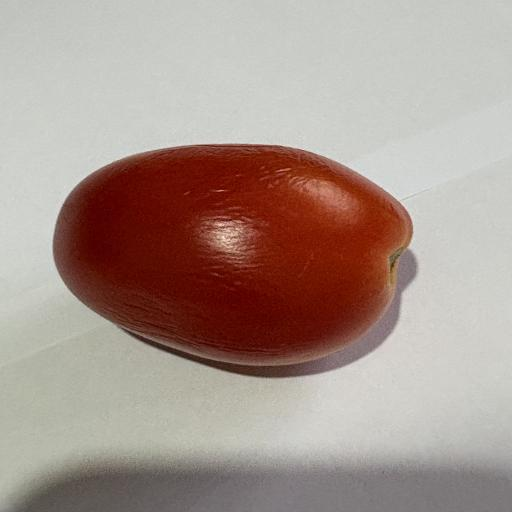spoiled: (54, 145, 412, 365)
